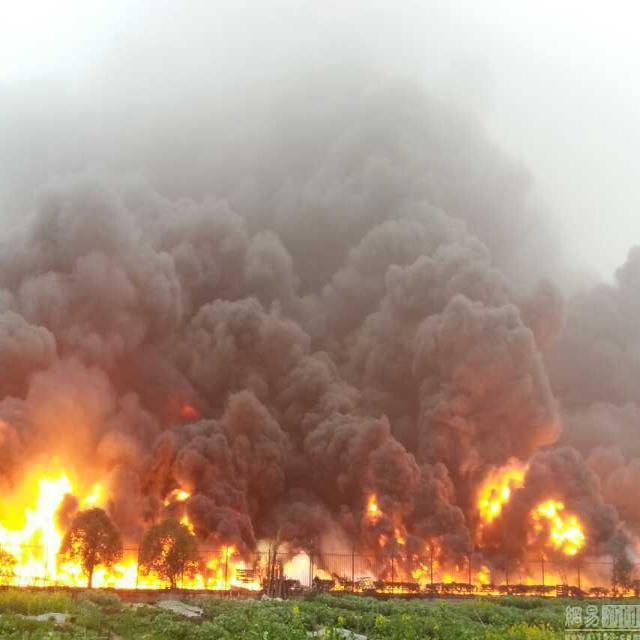fire: (5, 472, 234, 590), (370, 478, 610, 590)
smoke: (3, 142, 633, 470), (199, 477, 468, 578)
